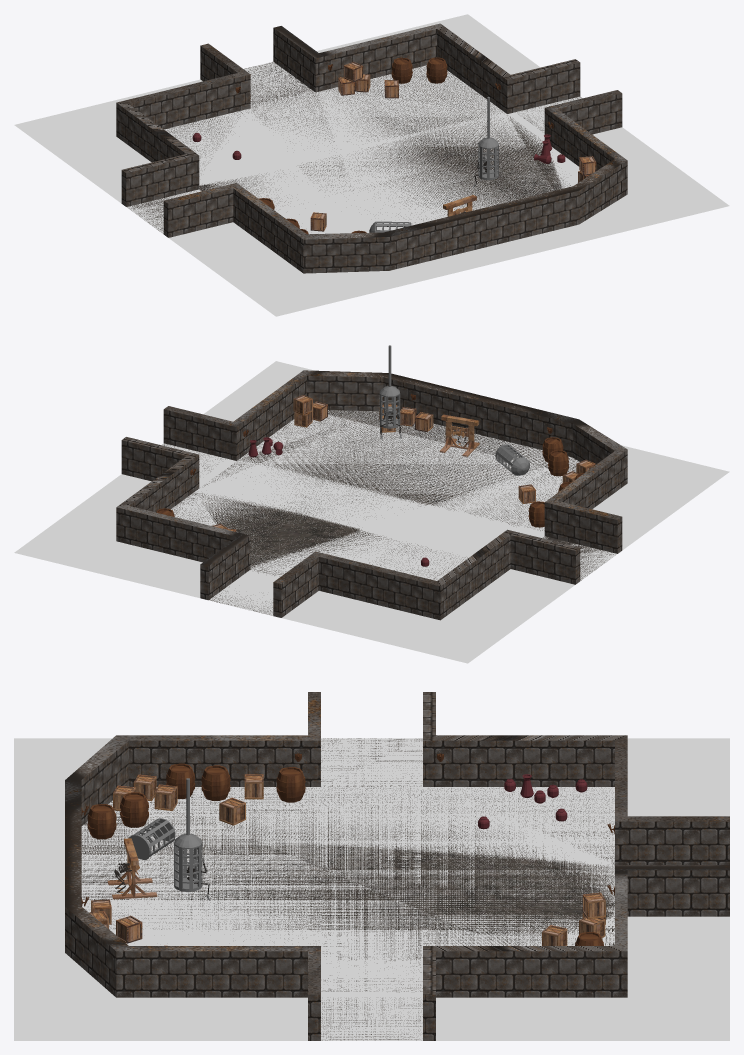
File: room_T.gltf
3 views of the same model, one above another, from view 1: azimuth 30°, elevation 25°; view 2: azimuth 150°, elevation 25°; view 3: azimuth 270°, elevation 25° (orthographic). The views are drawn at different scales.
Visible parts, largest first — view 1: Plane, Plane.001, Plane.002, Plane.007, Cylinder.015, beczka.005; view 2: Plane, Plane.001, Plane.002, Plane.007, Cylinder.015, Cube.015, Cylinder.016; view 3: Plane, Plane.001, Plane.007, Plane.002, Cylinder.015, Cylinder.016, Cube.015, beczka.007, beczka.006, beczka.001, beczka.003, beczka.002 (+5 smaller).
Part boxes in pixels (x1,y1,x2,y2): Plane: (14, 14, 729, 316); Plane.001: (116, 23, 627, 273); Plane.002: (126, 62, 581, 233); Plane.007: (127, 62, 581, 233); Cylinder.015: (473, 97, 498, 187); beczka.005: (426, 57, 447, 83); Plane: (14, 361, 729, 663); Plane.001: (116, 370, 627, 620); Plane.002: (161, 415, 616, 615); Plane.007: (164, 410, 613, 615); Cylinder.015: (379, 345, 401, 440); Cube.015: (439, 414, 479, 456); Cylinder.016: (495, 444, 529, 475); Plane: (14, 738, 729, 1040); Plane.001: (65, 692, 729, 1040); Plane.007: (81, 738, 614, 1040); Plane.002: (129, 738, 614, 1040); Cylinder.015: (174, 778, 210, 900); Cylinder.016: (128, 818, 175, 860); Cube.015: (107, 838, 156, 899); beczka.007: (276, 767, 305, 802); beczka.006: (87, 804, 116, 839); beczka.001: (201, 765, 230, 800); beczka.003: (120, 792, 148, 827); beczka.002: (166, 763, 195, 798).
Size of the model in its own units: 28 by 6.33 by 28.
12 materials, 8 textured.
